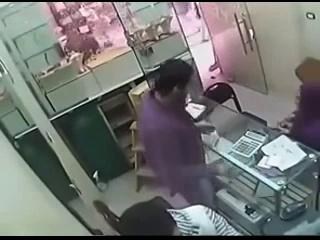Normal: (136, 60, 218, 208), (203, 82, 243, 113), (230, 128, 268, 158), (280, 201, 308, 221)
